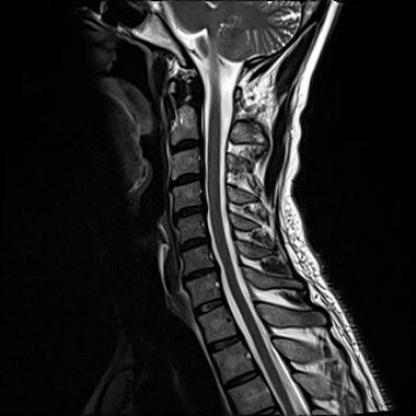Disc Bulgerotation: (173, 203, 206, 222), (180, 266, 221, 281)
